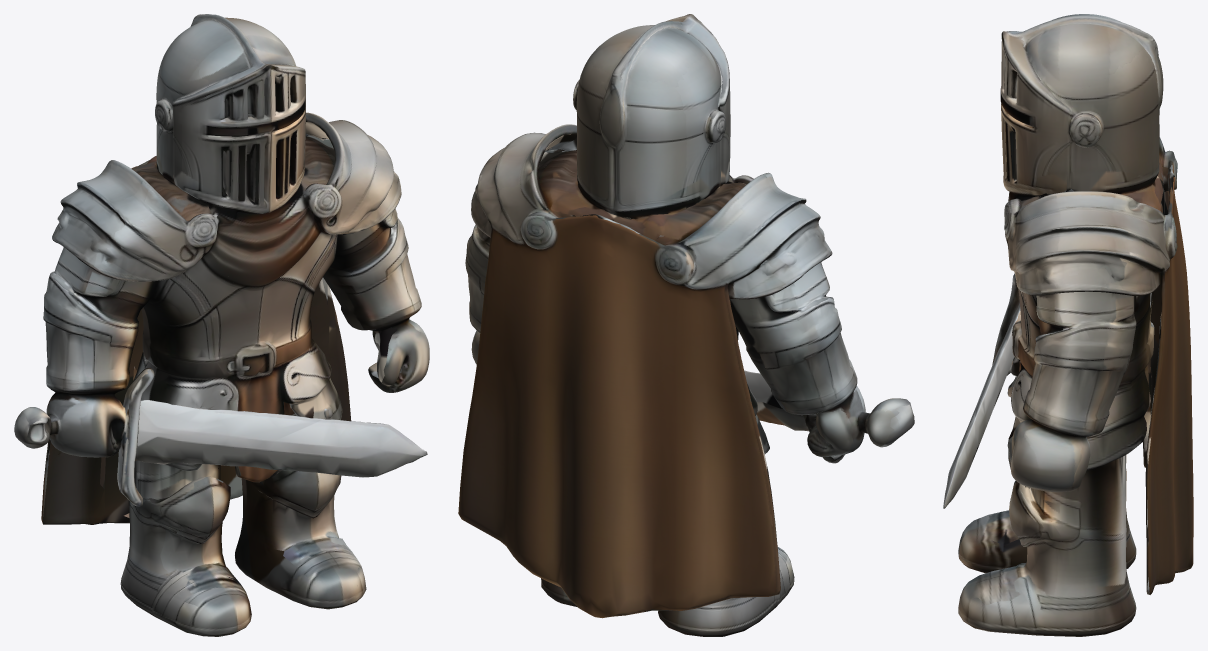
The model's file is dqfy0kqg.glb.
The picture shows the model from 3 angles, left to right: view 1: azimuth 30°, elevation 25°; view 2: azimuth 150°, elevation 25°; view 3: azimuth 270°, elevation 25°; orthographic projection. The views are drawn at different scales.
Parts seen in each view (by area): view 1: Knight; view 2: Knight; view 3: Knight.
Part boxes in pixels (x1,y1,x2,y2): Knight: (14, 14, 429, 636); Knight: (458, 14, 914, 636); Knight: (943, 14, 1193, 636).
Size of the model in its own units: 0.27 by 0.35 by 0.1383.
Materials: 1 (1 with a texture image).
